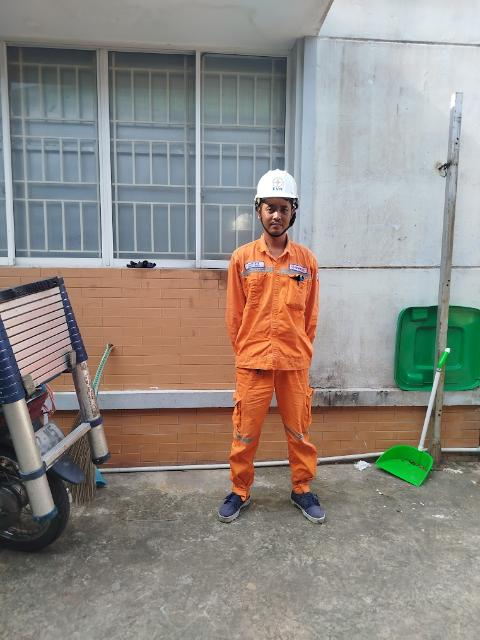helmet: (253, 162, 304, 215)
shoes: (290, 479, 335, 529), (210, 490, 260, 526)
